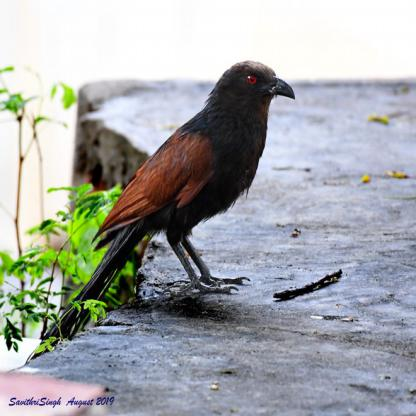Burung: (24, 59, 294, 359)
